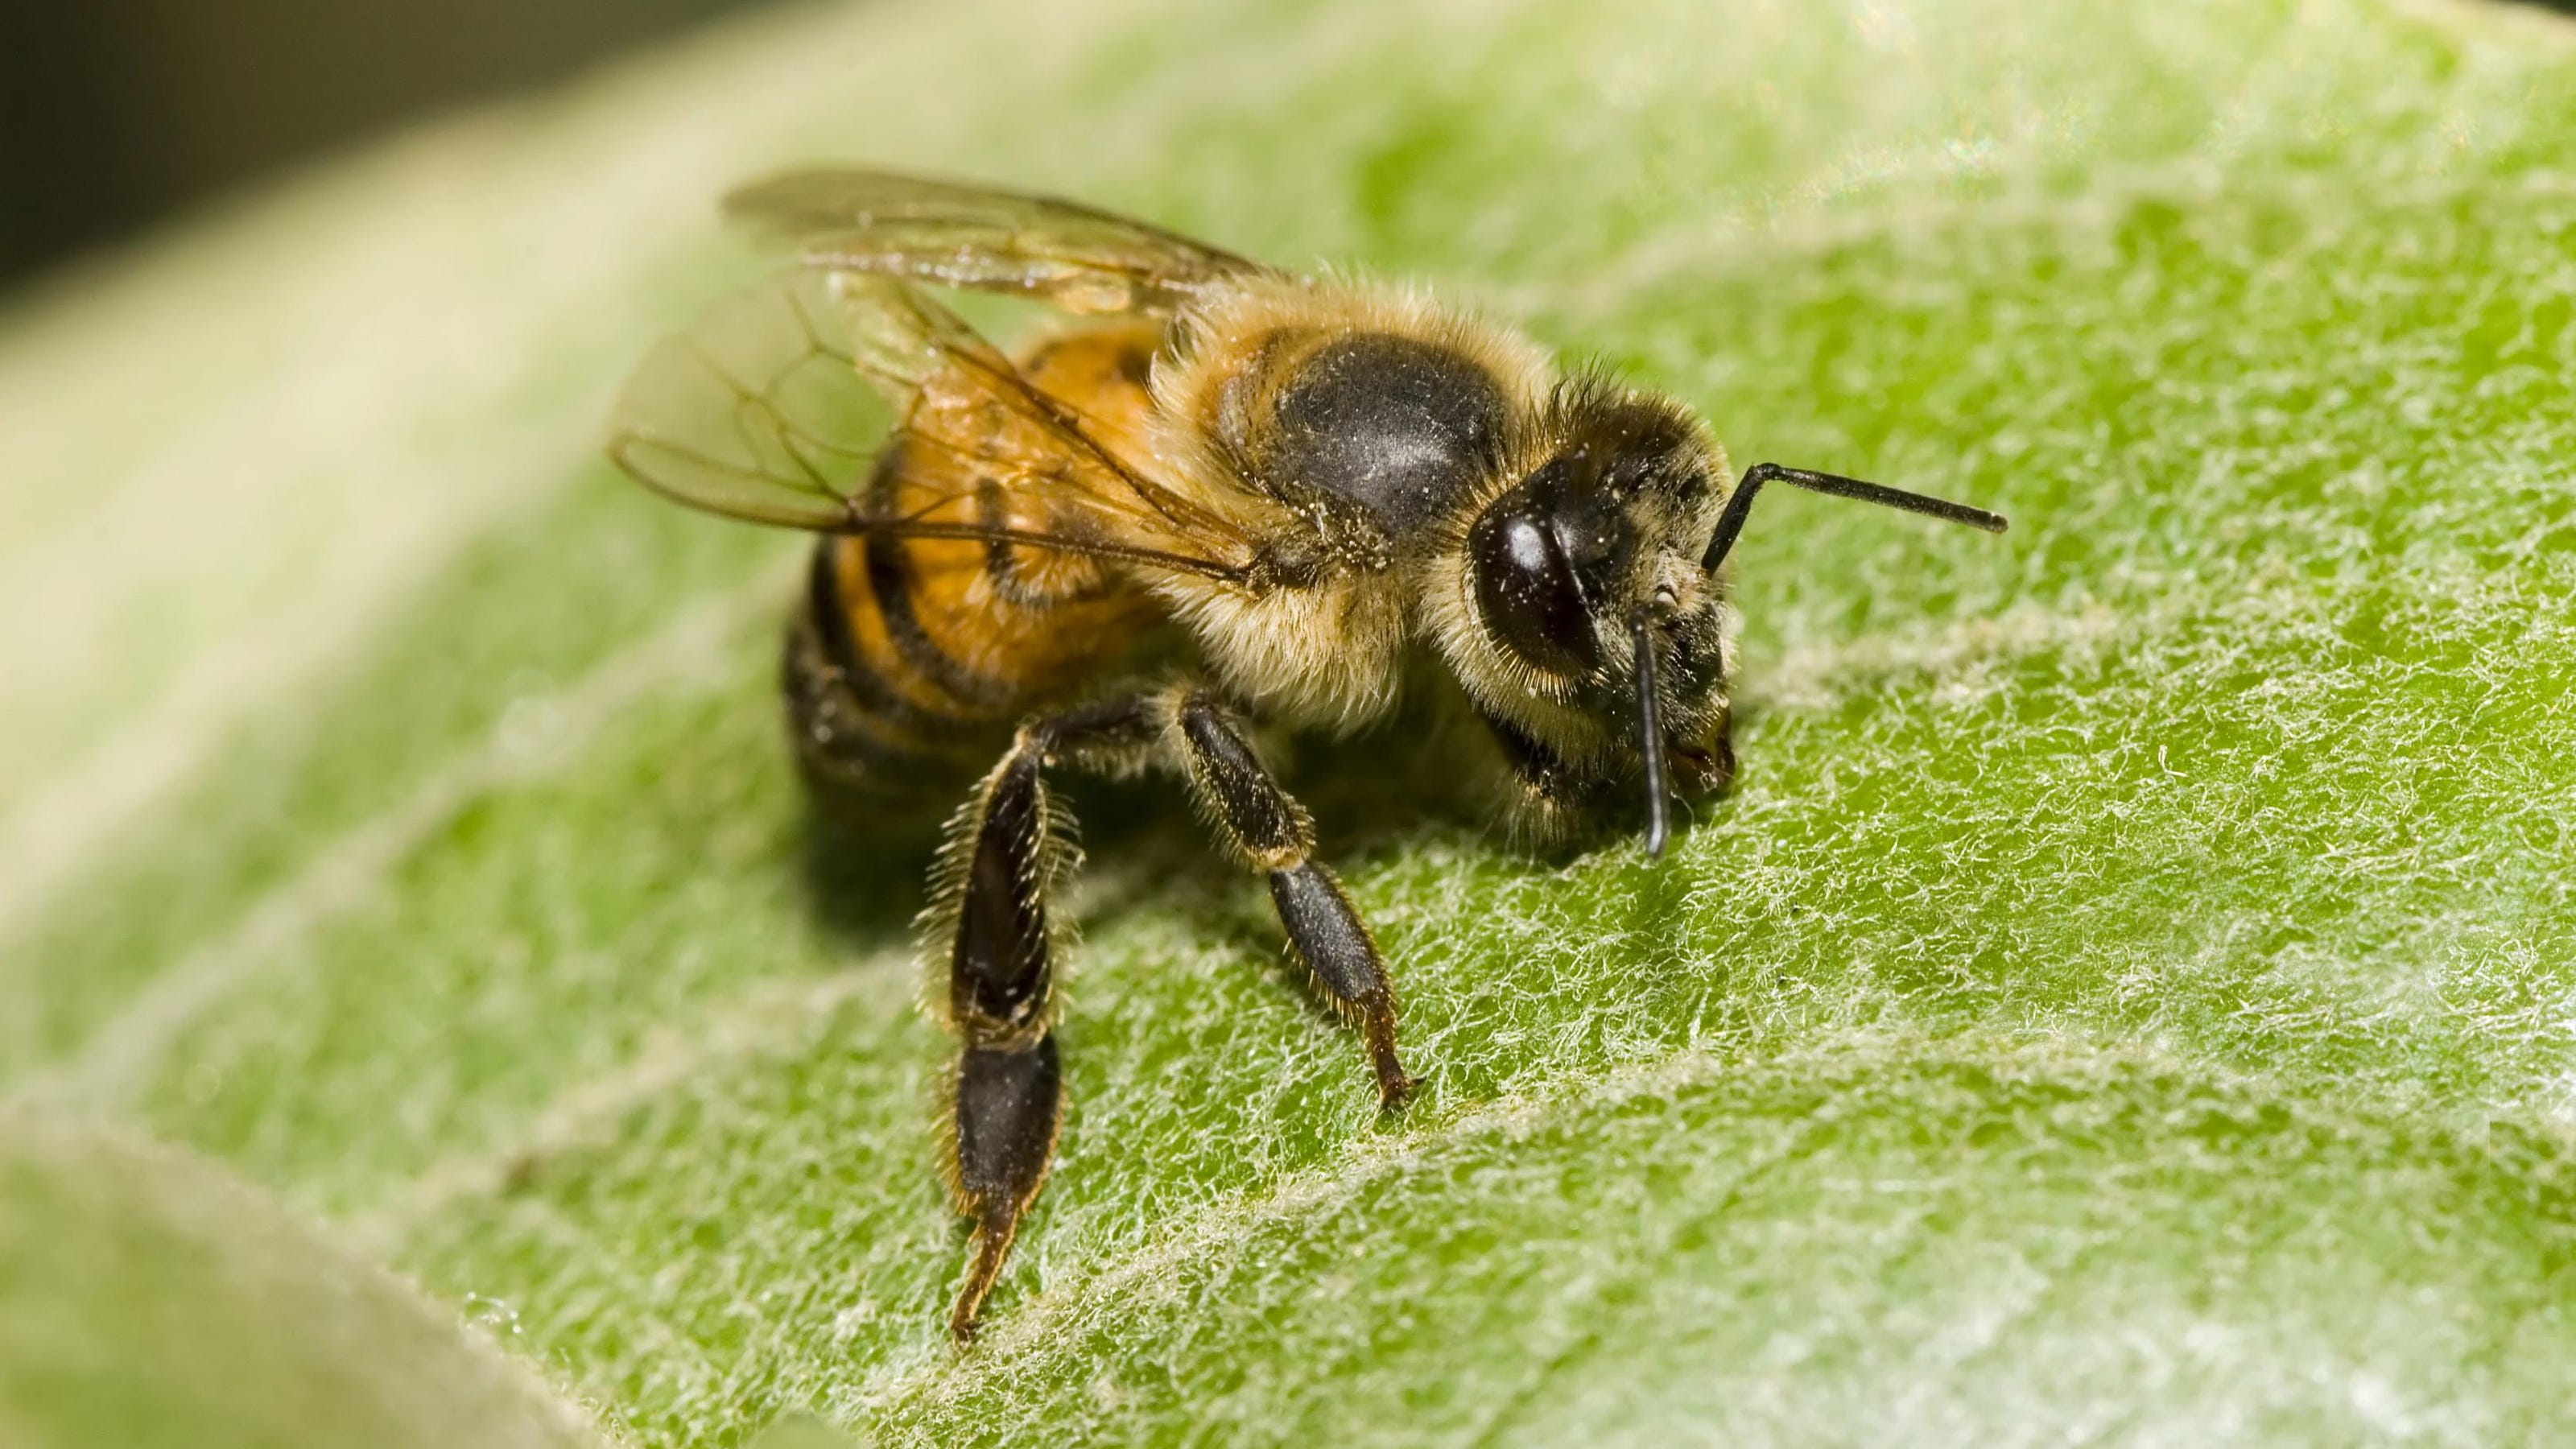Africanized Honey Bee: (528, 94, 2050, 1370)
